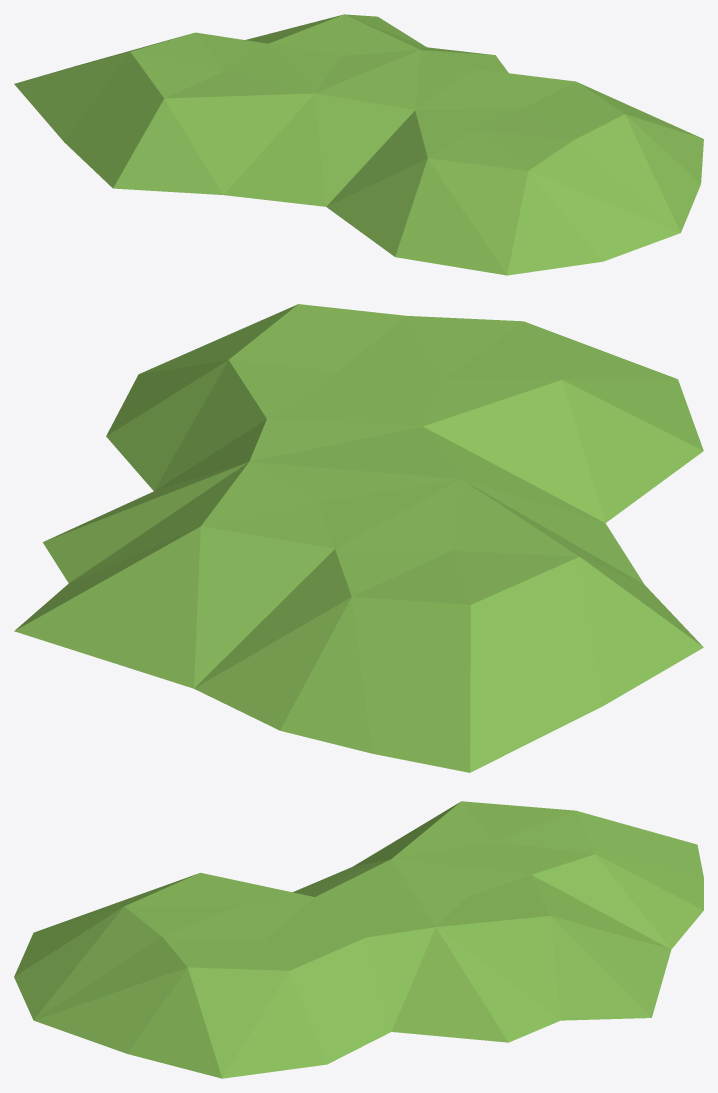
File: MT_Mountain_S_b_10_LOD.fbx
The picture shows the model from 3 angles, top to bottom: view 1: azimuth 30°, elevation 25°; view 2: azimuth 150°, elevation 25°; view 3: azimuth 270°, elevation 25°; orthographic projection. The views are drawn at different scales.
Visible parts, largest first — view 1: MT_Mountain_S_b_10_LOD0; view 2: MT_Mountain_S_b_10_LOD0; view 3: MT_Mountain_S_b_10_LOD0.
Boxes of the visible parts, x1,y1,x2,y2 form: MT_Mountain_S_b_10_LOD0: (14,14,703,275); MT_Mountain_S_b_10_LOD0: (14,304,703,772); MT_Mountain_S_b_10_LOD0: (14,801,703,1078).
Size of what is drawn, in the model's own units: 1818 by 216 by 2117.
